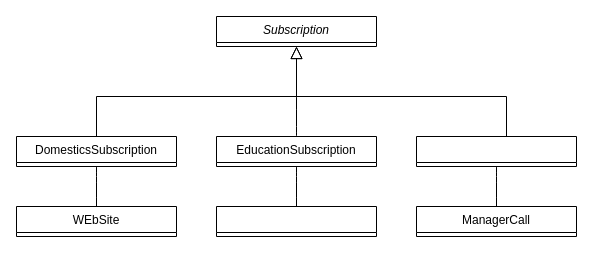
Some shapes in this 593 by 253 pixel diagram are drawn without their labels. The shapes that lost their labels are listed below. From the top down, each one's centre as x and y in pixels, then its label:
At (x=496, y=151): "PremiumSubscription".
At (x=296, y=221): "MobileApp".
